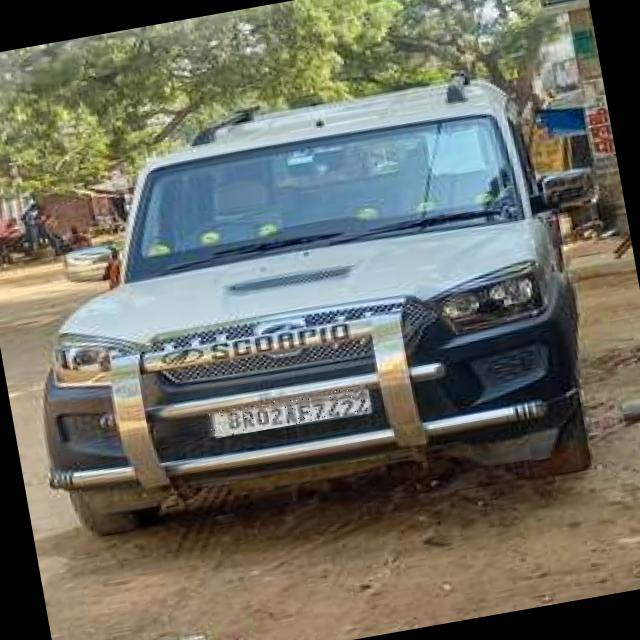Plate: (207, 385, 371, 440)
